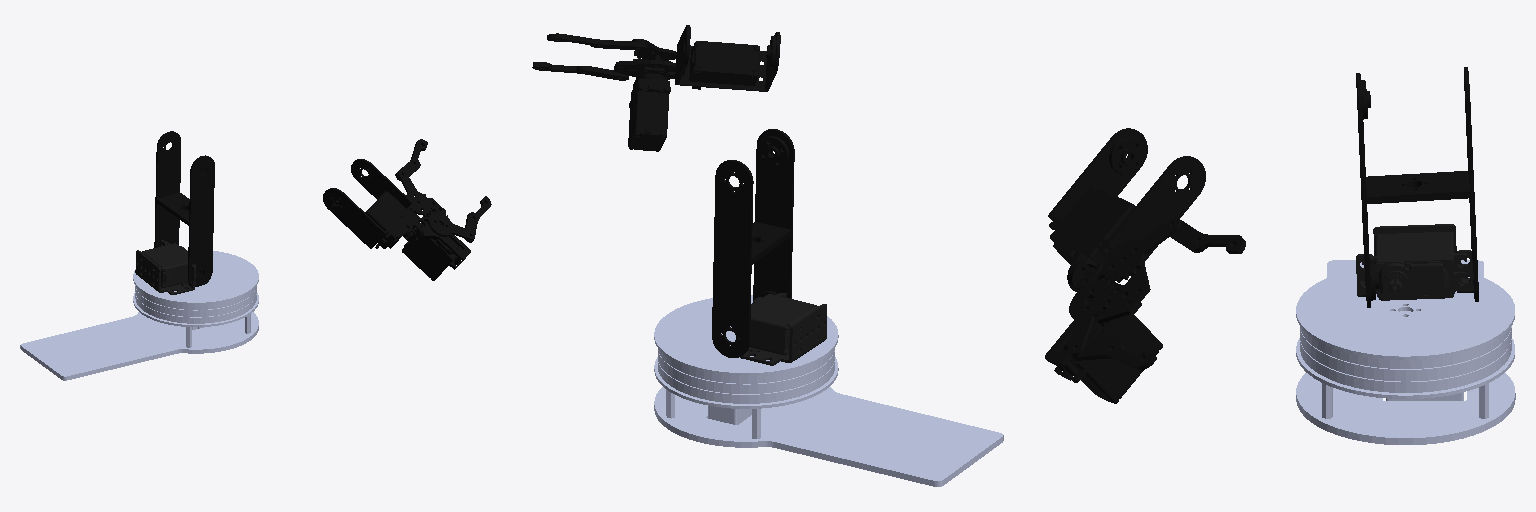
URDF robot description (six_servo):
<?xml version="1.0" encoding="utf-8" ?>
<!-- This URDF was automatically created by SolidWorks to URDF Exporter! Originally created by [author] ([email redacted]) 
     Commit Version: 1.6.0-1-g15f4949  Build Version: 1.6.7594.29634
     For more information, please see http://wiki.ros.org/sw_urdf_exporter -->
<robot name="six_servo">
    <link name="base_link">
        <inertial>
            <origin xyz="-0.018875 0.0012578 0.021854" rpy="0 0 0" />
            <mass value="0.19205" />
            <inertia ixx="0.00016092" ixy="2.2769E-06" ixz="-1.8938E-05" iyy="0.00040613" iyz="2.3218E-07" izz="0.0005467" />
        </inertial>
        <visual>
            <origin xyz="0 0 0" rpy="-1.5708 0 0" />
            <geometry>
                <mesh filename="package://six_servo/meshes/base_link.dae" scale="5 5 5"/>
            </geometry>
            <material name="">
                <color rgba="0.79216 0.81961 0.93333 1" />
            </material>
        </visual>
        <collision>
            <origin xyz="0 0 0" rpy="0 0 0" />
            <geometry>
                <mesh filename="package://six_servo/meshes/base_link.dae" scale="5 5 5"/>
            </geometry>
        </collision>
    </link>
    <link name="link1">
        <inertial>
            <origin xyz="0.019845 -0.018933 -0.01119" rpy="0 0 0" />
            <mass value="0.045014" />
            <inertia ixx="4.7182E-06" ixy="3.953E-08" ixz="1.6436E-09" iyy="9.8584E-06" iyz="-4.236E-07" izz="1.0906E-05" />
        </inertial>
        <visual>
            <origin xyz="0 0 0" rpy="0 0 0" />
            <geometry>
                <mesh filename="package://six_servo/meshes/link1.STL" scale="5 5 5"/>
            </geometry>
            <material name="">
                <color rgba="0.15 0.15 0.15 1" />
            </material>
        </visual>
        <collision>
            <origin xyz="0 0 0" rpy="0 0 0" />
            <geometry>
                <mesh filename="package://six_servo/meshes/link1.STL" scale="5 5 5"/>
            </geometry>
        </collision>
    </link>
    <joint name="joint1" type="revolute">
        <!--0.0076655 -0.05 -0.014602-->
        <origin xyz="-0.0383275 -0.073010 0.25" rpy="-3.14 -0.040154 1.5708" />
        <parent link="base_link" />
        <child link="link1" />
        <axis xyz="0 0 1" />
        <limit lower="0" upper="3.14" effort="2000" velocity="6.28" />
    </joint>
    <link name="link2">
        <inertial>
            <origin xyz="-9.6446E-05 -0.051 0.011223" rpy="0 0 0" />
            <mass value="0.049995" />
            <inertia ixx="4.6603E-05" ixy="-3.0854E-08" ixz="-1.1117E-20" iyy="3.0288E-05" iyz="-5.5477E-21" izz="2.134E-05" />
        </inertial>
        <visual>
            <origin xyz="0 0 0" rpy="0 0 0" />
            <geometry>
                <mesh filename="package://six_servo/meshes/link2.dae" scale="5 5 5"/>
            </geometry>
            <material name="">
                <color rgba="0.1 0.1 0.1 1" />
            </material>
        </visual>
        <collision>
            <origin xyz="0 0 0" rpy="0 0 0" />
            <geometry>
                <mesh filename="package://six_servo/meshes/link2.dae" scale="5 5 5"/>
            </geometry>
        </collision>
    </link>
    <joint name="joint2" type="revolute">
        <origin xyz="0.05 0 -0.066460" rpy="1.5708 0 1.52" />
        <parent link="link1" />
        <child link="link2" />
        <axis xyz="0 0 1" />
        <limit lower="0" upper="3.04" effort="2000" velocity="6.28" />
    </joint>
    <link name="link3">
        <inertial>
            <origin xyz="0.07528 -0.018025 0.002122" rpy="0 0 0" />
            <mass value="0.11189" />
            <inertia ixx="1.1218E-05" ixy="1.0566E-10" ixz="3.2873E-09" iyy="2.5125E-05" iyz="-8.4719E-07" izz="2.7114E-05" />
        </inertial>
        <visual>
            <origin xyz="0 0 0" rpy="0 0 0" />
            <geometry>
                <mesh filename="package://six_servo/meshes/link3.dae" scale="5 5 5"/>
            </geometry>
            <material name="">
                <color rgba="0.1 0.1 0.1 1" />
            </material>
        </visual>
        <collision>
            <origin xyz="0 0 0" rpy="0 0 0" />
            <geometry>
                <mesh filename="package://six_servo/meshes/link3.dae" scale="5 5 5"/>
            </geometry>
        </collision>
    </link>
    <joint name="joint3" type="revolute">
        <origin xyz="-0.00096445 -0.510 0" rpy="-1.5708 1.047 -0.099914" />
        <parent link="link2" />
        <child link="link3" />
        <axis xyz="0 1 0" />
        <limit lower="0" upper="3.14" effort="2000" velocity="6.28" />
    </joint>
    <link name="link4">
        <inertial>
            <origin xyz="-0.012388 0.035123 1.8331E-05" rpy="0 0 0" />
            <mass value="0.051687" />
            <inertia ixx="1.0059E-05" ixy="3.877E-08" ixz="6.0397E-13" iyy="1.9542E-05" iyz="3.8857E-09" izz="2.5393E-05" />
        </inertial>
        <visual>
            <origin xyz="0 0 0" rpy="0 0 0" />
            <geometry>
                <mesh filename="package://six_servo/meshes/link4.dae" scale="5 5 5"/>
            </geometry>
            <material name="">
                <color rgba="0.1 0.1 0.1 1" />
            </material>
        </visual>
        <collision>
            <origin xyz="0 0 0" rpy="0 0 0" />
            <geometry>
                <mesh filename="package://six_servo/meshes/link4.dae" scale="5 5 5"/>
            </geometry>
        </collision>
    </link>
    <joint name="joint4" type="revolute">
        <origin xyz="0.75285 0 0" rpy="2.4552 0 1.5708" />
        <parent link="link3" />
        <child link="link4" />
        <axis xyz="1 0 0" />
        <limit lower="0" upper="3.14" effort="2000" velocity="6.28" />
    </joint>
    <link name="link5">
        <inertial>
            <origin xyz="-0.016771 -0.019023 -0.026447" rpy="0 0 0" />
            <mass value="0.039432" />
            <inertia ixx="7.2715E-06" ixy="-7.6833E-08" ixz="3.0175E-10" iyy="2.3347E-06" iyz="8.7991E-09" izz="6.5466E-06" />
        </inertial>
        <visual>
            <origin xyz="0 0 0" rpy="0 0 0" />
            <geometry>
                <mesh filename="package://six_servo/meshes/link5.dae" scale="5 5 5"/>
            </geometry>
            <material name="">
                <color rgba="0.1 0.1 0.1 1" />
            </material>
        </visual>
        <collision>
            <origin xyz="0 0 0" rpy="0 0 0" />
            <geometry>
                <mesh filename="package://six_servo/meshes/link5.dae" scale="5 5 5"/>
            </geometry>
        </collision>
    </link>
    <joint name="joint5" type="revolute">
        <origin xyz="-0.11625 0.334020 17.8725E-05" rpy="-1.5708 -1.566 4.7124" />
        <parent link="link4" />
        <child link="link5" />
        <axis xyz="0 0 1" />
        <limit lower="0" upper="3.14" effort="2000" velocity="6.28" />
    </joint>
    <link name="link6_1">
        <inertial>
            <origin xyz="0.00011182 -0.0027632 0.0047626" rpy="0 0 0" />
            <mass value="0.0034196" />
            <inertia ixx="2.6556E-07" ixy="-4.9134E-09" ixz="9.2644E-23" iyy="9.8312E-08" iyz="3.4328E-22" izz="3.5886E-07" />
        </inertial>
        <visual>
            <origin xyz="0 0 0" rpy="0 0 0" />
            <geometry>
                <mesh filename="package://six_servo/meshes/link6_1.dae" scale="5 5 5"/>
            </geometry>
            <material name="">
                <color rgba="0.1 0.1 0.1 1" />
            </material>
        </visual>
        <collision>
            <origin xyz="0 0 0" rpy="0 0 0" />
            <geometry>
                <mesh filename="package://six_servo/meshes/link6_1.dae" scale="5 5 5"/>
            </geometry>
        </collision>
    </link>
    <joint name="joint6_1" type="revolute">
        <origin xyz="0 -0.0675 -0.147855" rpy="1.5708 0.98921 1.5708" />
        <parent link="link5" />
        <child link="link6_1" />
        <axis xyz="0 0 1" />
        <limit lower="0" upper="0.9599" effort="2000" velocity="6.28" />
    </joint>
    <link name="link7_1">
        <inertial>
            <origin xyz="-0.0062954 0.022738 0.014232" rpy="0 0 0" />
            <mass value="0.0014839" />
            <inertia ixx="4.3406E-07" ixy="7.4037E-08" ixz="7.9409E-23" iyy="2.9089E-08" iyz="-4.0739E-22" izz="4.6093E-07" />
        </inertial>
        <visual>
            <origin xyz="0 0 0" rpy="0 0 0" />
            <geometry>
                <mesh filename="package://six_servo/meshes/link7_1.STL" scale="5 5 5"/>
            </geometry>
            <material name="">
                <color rgba="0.1 0.1 0.1 1" />
            </material>
        </visual>
        <collision>
            <origin xyz="0 0 0" rpy="0 0 0" />
            <geometry>
                <mesh filename="package://six_servo/meshes/link7_1.STL" scale="5 5 5"/>
            </geometry>
        </collision>
    </link>
    <joint name="joint7_1" type="continuous">
        <origin xyz="-0.00097820 -0.155245 -0.052410" rpy="0 0 -2.2378" />
        <parent link="link6_1" />
        <child link="link7_1" />
        <axis xyz="0 0 1" />
        <limit lower="0" upper="0" effort="2000" velocity="6.28" />
        <mimic joint="joint6_1" multiplier="-1" offset="0.0873" />
    </joint>
    <link name="link6_2">
        <inertial>
            <origin xyz="0.00026689 -0.0065013 -0.011645" rpy="0 0 0" />
            <mass value="0.0014534" />
            <inertia ixx="2.1584E-07" ixy="-4.8715E-09" ixz="2.9779E-23" iyy="4.7208E-08" iyz="2.068E-23" izz="2.62E-07" />
        </inertial>
        <visual>
            <origin xyz="0 0 0" rpy="0 0 0" />
            <geometry>
                <mesh filename="package://six_servo/meshes/link6_2.STL" scale="5 5 5"/>
            </geometry>
            <material name="">
                <color rgba="0.1 0.1 0.1 1" />
            </material>
        </visual>
        <collision>
            <origin xyz="0 0 0" rpy="0 0 0" />
            <geometry>
                <mesh filename="package://six_servo/meshes/link6_2.STL" scale="5 5 5"/>
            </geometry>
        </collision>
    </link>
    <joint name="joint6_2" type="continuous">
        <origin xyz="-0.0271135 0.070 -0.149730" rpy="1.5708 1.1052 -1.5708" />
        <parent link="link5" />
        <child link="link6_2" />
        <axis xyz="0 0 1" />
        <limit lower="0" upper="0" effort="2000" velocity="6.28" />
        <mimic joint="joint6_1" multiplier="1" offset="0" />
    </joint>
    <link name="link7_2">
        <inertial>
            <origin xyz="-0.0062954 0.022738 -0.01465" rpy="0 0 0" />
            <mass value="0.0014839" />
            <inertia ixx="4.3406E-07" ixy="7.4037E-08" ixz="-2.068E-23" iyy="2.9089E-08" iyz="-3.3294E-23" izz="4.6093E-07" />
        </inertial>
        <visual>
            <origin xyz="0 0 0" rpy="0 0 0" />
            <geometry>
                <mesh filename="package://six_servo/meshes/link7_2.STL" scale="5 5 5"/>
            </geometry>
            <material name="">
                <color rgba="0.1 0.1 0.1 1" />
            </material>
        </visual>
        <collision>
            <origin xyz="0 0 0" rpy="0 0 0" />
            <geometry>
                <mesh filename="package://six_servo/meshes/link7_2.STL" scale="5 5 5"/>
            </geometry>
        </collision>
    </link>
    <joint name="joint7_2" type="continuous">
        <origin xyz="-0.00097820 -0.155245 0.027135" rpy="0 0 -2.3584" />
        <parent link="link6_2" />
        <child link="link7_2" />
        <axis xyz="0 0 1" />
        <limit lower="0" upper="0" effort="2000" velocity="6.28" />
        <mimic joint="joint7_1" multiplier="1" offset="0.2618" />
    </joint>
    <transmission name="trans_joint1">
        <type>transmission_interface/SimpleTransmission</type>
        <joint name="joint1">
            <hardwareInterface>hardware_interface/EffortJointInterface</hardwareInterface>
        </joint>
        <actuator name="joint1_motor">
            <hardwareInterface>hardware_interface/EffortJointInterface</hardwareInterface>
            <mechanicalReduction>1</mechanicalReduction>
        </actuator>
    </transmission>
    <transmission name="trans_joint2">
        <type>transmission_interface/SimpleTransmission</type>
        <joint name="joint2">
            <hardwareInterface>hardware_interface/EffortJointInterface</hardwareInterface>
        </joint>
        <actuator name="joint2_motor">
            <hardwareInterface>hardware_interface/EffortJointInterface</hardwareInterface>
            <mechanicalReduction>1</mechanicalReduction>
        </actuator>
    </transmission>
    <transmission name="trans_joint3">
        <type>transmission_interface/SimpleTransmission</type>
        <joint name="joint3">
            <hardwareInterface>hardware_interface/EffortJointInterface</hardwareInterface>
        </joint>
        <actuator name="joint3_motor">
            <hardwareInterface>hardware_interface/EffortJointInterface</hardwareInterface>
            <mechanicalReduction>1</mechanicalReduction>
        </actuator>
    </transmission>
    <transmission name="trans_joint4">
        <type>transmission_interface/SimpleTransmission</type>
        <joint name="joint4">
            <hardwareInterface>hardware_interface/EffortJointInterface</hardwareInterface>
        </joint>
        <actuator name="joint4_motor">
            <hardwareInterface>hardware_interface/EffortJointInterface</hardwareInterface>
            <mechanicalReduction>1</mechanicalReduction>
        </actuator>
    </transmission>
    <transmission name="trans_joint5">
        <type>transmission_interface/SimpleTransmission</type>
        <joint name="joint5">
            <hardwareInterface>hardware_interface/EffortJointInterface</hardwareInterface>
        </joint>
        <actuator name="joint5_motor">
            <hardwareInterface>hardware_interface/EffortJointInterface</hardwareInterface>
            <mechanicalReduction>1</mechanicalReduction>
        </actuator>
    </transmission>
    <transmission name="trans_joint6_1">
        <type>transmission_interface/SimpleTransmission</type>
        <joint name="joint6_1">
            <hardwareInterface>hardware_interface/EffortJointInterface</hardwareInterface>
        </joint>
        <actuator name="joint6_1_motor">
            <hardwareInterface>hardware_interface/EffortJointInterface</hardwareInterface>
            <mechanicalReduction>1</mechanicalReduction>
        </actuator>
    </transmission>
    <transmission name="trans_joint7_1">
        <type>transmission_interface/SimpleTransmission</type>
        <joint name="joint7_1">
            <hardwareInterface>hardware_interface/EffortJointInterface</hardwareInterface>
        </joint>
        <actuator name="joint7_1_motor">
            <hardwareInterface>hardware_interface/EffortJointInterface</hardwareInterface>
            <mechanicalReduction>1</mechanicalReduction>
        </actuator>
    </transmission>
    <transmission name="trans_joint6_2">
        <type>transmission_interface/SimpleTransmission</type>
        <joint name="joint6_2">
            <hardwareInterface>hardware_interface/EffortJointInterface</hardwareInterface>
        </joint>
        <actuator name="joint6_2_motor">
            <hardwareInterface>hardware_interface/EffortJointInterface</hardwareInterface>
            <mechanicalReduction>1</mechanicalReduction>
        </actuator>
    </transmission>
    <transmission name="trans_joint7_2">
        <type>transmission_interface/SimpleTransmission</type>
        <joint name="joint7_2">
            <hardwareInterface>hardware_interface/EffortJointInterface</hardwareInterface>
        </joint>
        <actuator name="joint7_2_motor">
            <hardwareInterface>hardware_interface/EffortJointInterface</hardwareInterface>
            <mechanicalReduction>1</mechanicalReduction>
        </actuator>
    </transmission>
    <gazebo>
        <plugin name="gazebo_ros_control">
            <robotNamespace>/</robotNamespace>
        </plugin>
    </gazebo>
</robot>

--- What the picture shows (computed from the rendered views, not written in the file) ---
3 views of the same robot in one strip: view 1: azimuth 30°, elevation 25°; view 2: azimuth 150°, elevation 25°; view 3: azimuth 270°, elevation 25° (orthographic).
Robot: six_servo — 10 links, 9 joints (6 revolute, 3 continuous); root link base_link; default pose: all joints at 0.
Visible links, largest first — view 1: base_link, link2, link4, link5, link1, link6_1, link6_2; view 2: base_link, link2, link4, link1, link5, link7_2, link7_1; view 3: base_link, link4, link1, link5, link2, link6_2, link6_1, link7_1, link7_2.
Link boxes in pixels (x1,y1,x2,y2): base_link: [20, 250, 258, 380]; link2: [154, 131, 214, 286]; link4: [323, 159, 414, 248]; link5: [402, 198, 470, 280]; link1: [135, 240, 196, 294]; link6_1: [426, 211, 474, 239]; link6_2: [398, 170, 432, 216]; base_link: [654, 295, 1003, 486]; link2: [712, 129, 794, 357]; link4: [675, 25, 780, 91]; link1: [739, 293, 826, 365]; link5: [614, 60, 700, 151]; link7_2: [547, 33, 647, 50]; link7_1: [532, 62, 628, 80]; base_link: [1296, 260, 1515, 444]; link4: [1048, 128, 1205, 269]; link1: [1356, 224, 1473, 300]; link5: [1045, 258, 1162, 403]; link2: [1356, 67, 1478, 307]; link6_2: [1101, 217, 1180, 283]; link6_1: [1068, 278, 1114, 356]; link7_1: [1070, 339, 1156, 370]; link7_2: [1170, 219, 1245, 253].
Bounding box of the posed robot: 1.92 × 1.2 × 0.9285 m (x, y, z).
9 mesh visuals loaded from 10 distinct referenced files (4 binary STL, 5 Collada DAE); not drawn: 1 (reference not matched to a file when rendering).